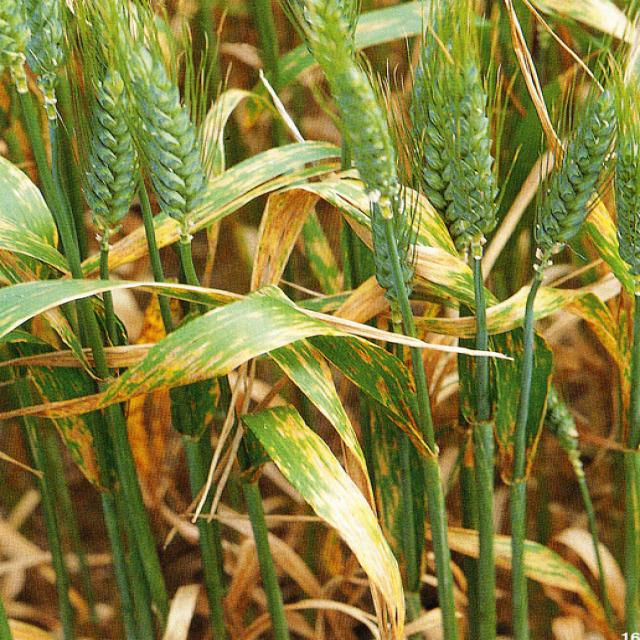wheat-septoria: (261, 403, 396, 586), (345, 334, 421, 429), (254, 187, 314, 290)
